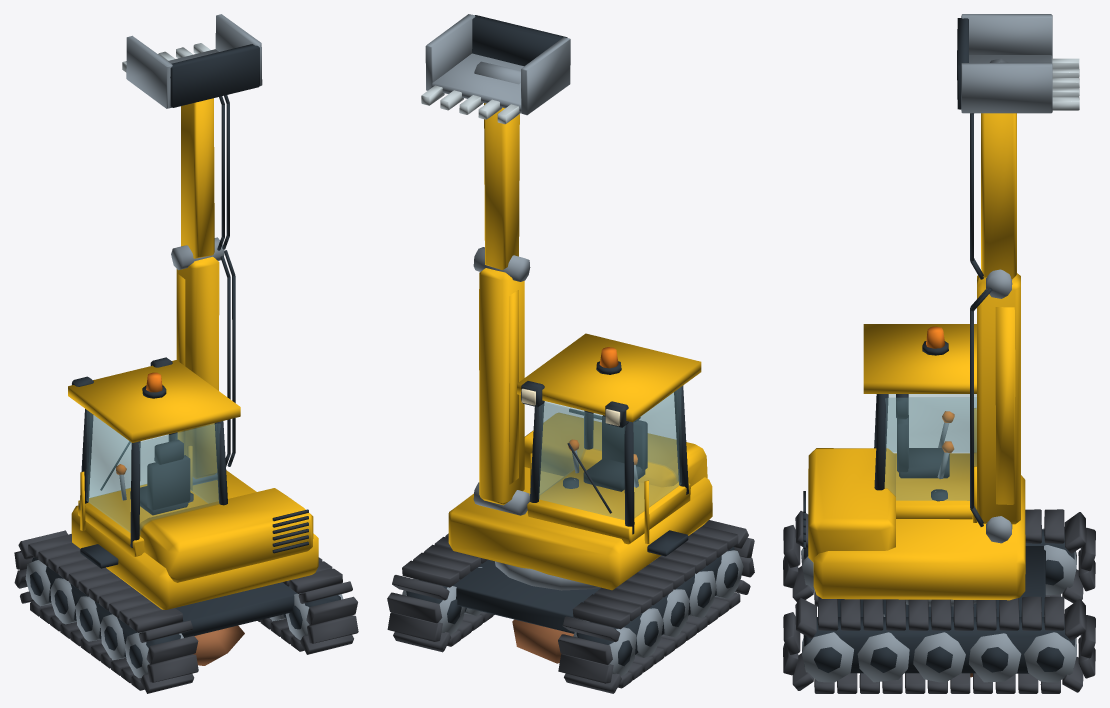
The model's file is excavator-low.glb.
The picture shows the model from 3 angles, left to right: view 1: azimuth 30°, elevation 25°; view 2: azimuth 150°, elevation 25°; view 3: azimuth 270°, elevation 25°; orthographic projection. The views are drawn at different scales.
Parts seen in each view (by area): view 1: body, side glazing, engine vent, boom casting, hub, stick casting, bucket back, track roller, bucket cheek, hydraulic hose, hydraulic hose.006, material load (+11 smaller); view 2: body, side glazing, boom casting, hub, bucket cheek, engine vent, stick casting, track roller, bucket back, tooth, material load, joystick (+16 smaller); view 3: body, boom casting, side glazing, track roller, bucket cheek, hub, stick casting, engine vent, tooth, hydraulic hose, bucket back, tread.029 (+22 smaller).
Part boxes in pixels (bbox=[...]): body: bbox=[68, 360, 318, 609]; side glazing: bbox=[86, 411, 219, 534]; engine vent: bbox=[72, 357, 308, 568]; boom casting: bbox=[176, 256, 219, 478]; hub: bbox=[30, 557, 340, 668]; stick casting: bbox=[181, 98, 214, 258]; bucket back: bbox=[170, 44, 259, 107]; track roller: bbox=[25, 560, 343, 678]; bucket cheek: bbox=[126, 14, 262, 108]; hydraulic hose: bbox=[220, 250, 235, 466]; hydraulic hose.006: bbox=[217, 95, 229, 250]; material load: bbox=[193, 625, 244, 665]; body: bbox=[448, 333, 712, 590]; side glazing: bbox=[539, 388, 681, 519]; boom casting: bbox=[479, 268, 524, 505]; hub: bbox=[406, 547, 738, 666]; bucket cheek: bbox=[425, 14, 570, 115]; engine vent: bbox=[521, 381, 688, 556]; stick casting: bbox=[484, 103, 519, 269]; track roller: bbox=[402, 550, 743, 675]; bucket back: bbox=[472, 15, 567, 66]; tooth: bbox=[421, 85, 521, 124]; material load: bbox=[512, 619, 573, 663]; joystick: bbox=[495, 450, 638, 590]; body: bbox=[808, 324, 1025, 600]; boom casting: bbox=[977, 273, 1020, 524]; side glazing: bbox=[884, 394, 976, 500]; track roller: bbox=[801, 528, 1076, 682]; bucket cheek: bbox=[961, 14, 1052, 113]; hub: bbox=[803, 530, 1074, 673]; stick casting: bbox=[981, 113, 1016, 278]; engine vent: bbox=[803, 394, 949, 548]; tooth: bbox=[1052, 58, 1079, 110]; hydraulic hose: bbox=[970, 287, 992, 526]; bucket back: bbox=[957, 18, 968, 109]; tread.029: bbox=[1064, 512, 1086, 553].
Size of the model in its own units: 3.34 by 9.13 by 3.94.
